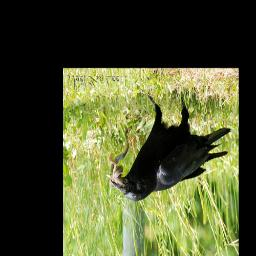Crow: (109, 94, 230, 202)
